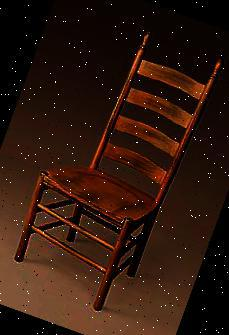Silla: (6, 17, 225, 324)
